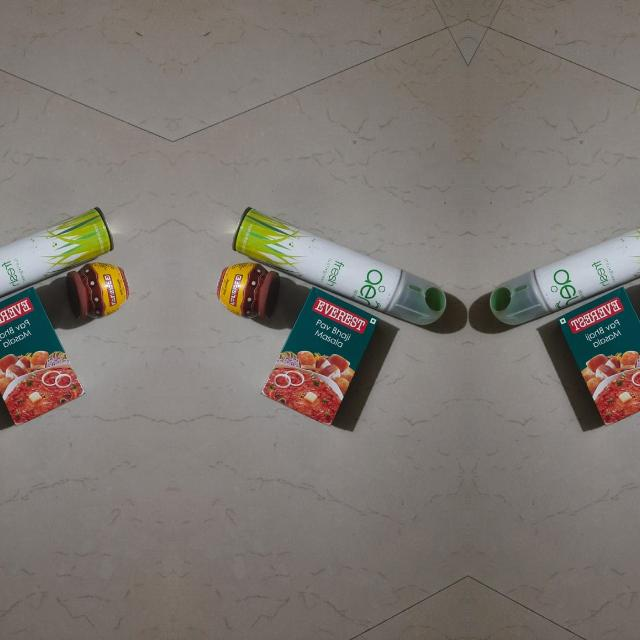Badshah Afgani Hing: (195, 254, 288, 334), (55, 254, 148, 334)
Everest Pav Bhaji Masala 100 g: (256, 291, 386, 434), (549, 290, 640, 433), (0, 290, 88, 433)
Godrej Aer Lush Green Fresh Home Fragrance Spray 220 ml: (237, 201, 467, 325), (468, 201, 640, 325), (0, 201, 107, 325)
